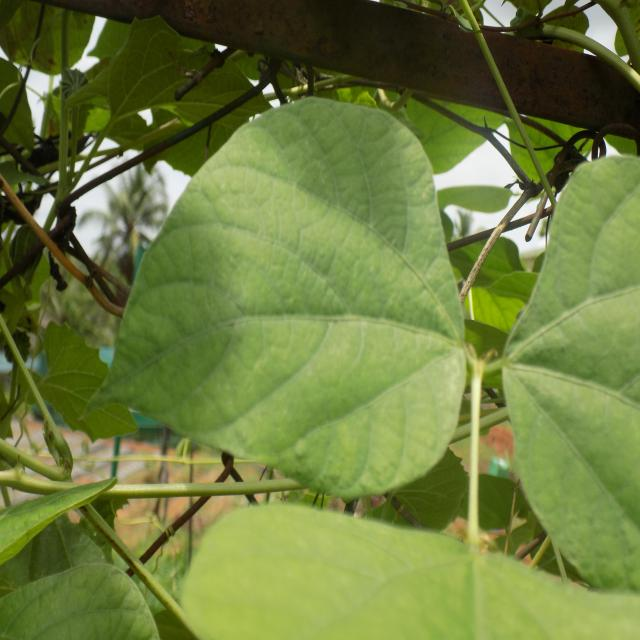Dolicos bean_healthy: (95, 100, 464, 491)
